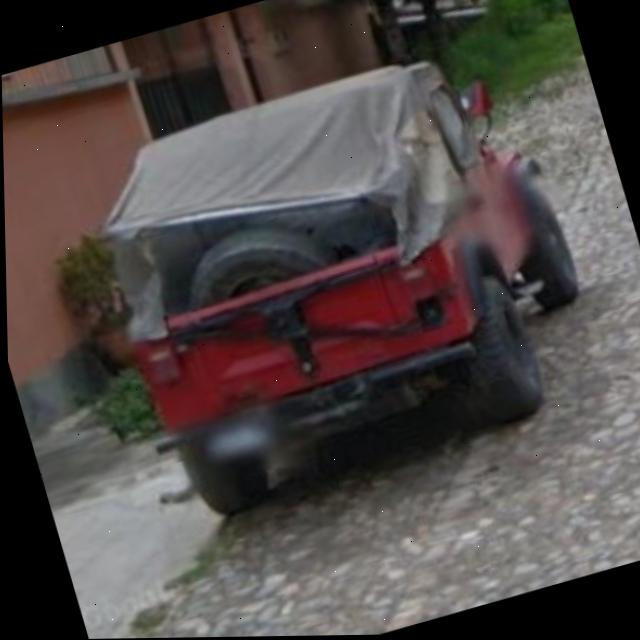vehicle: (49, 18, 586, 487)
